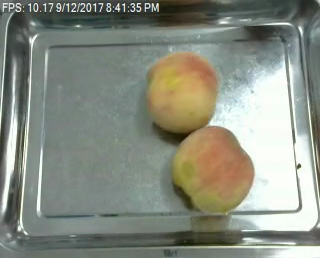Peach: (172, 124, 255, 213), (146, 50, 219, 133)
